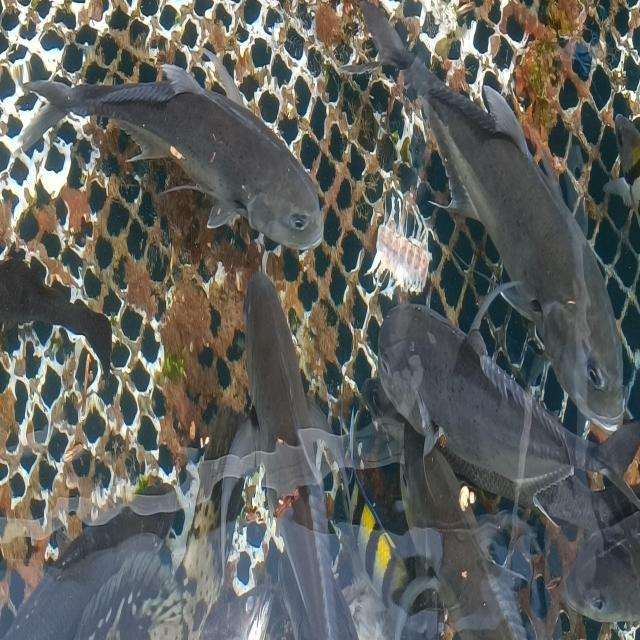ikan: (346, 1, 626, 436), (17, 58, 325, 253), (375, 300, 639, 510)
